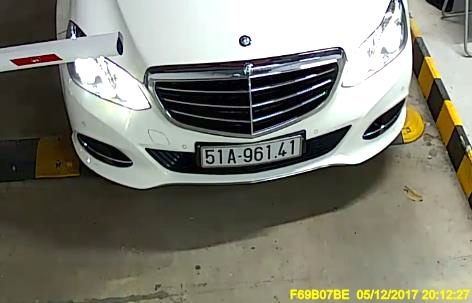plate: (197, 136, 302, 167)
